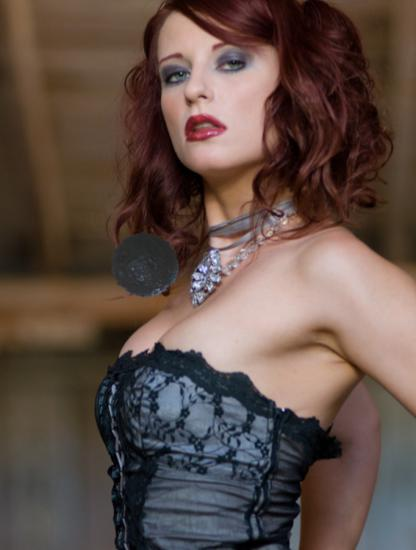Avocado: (111, 227, 184, 300)
